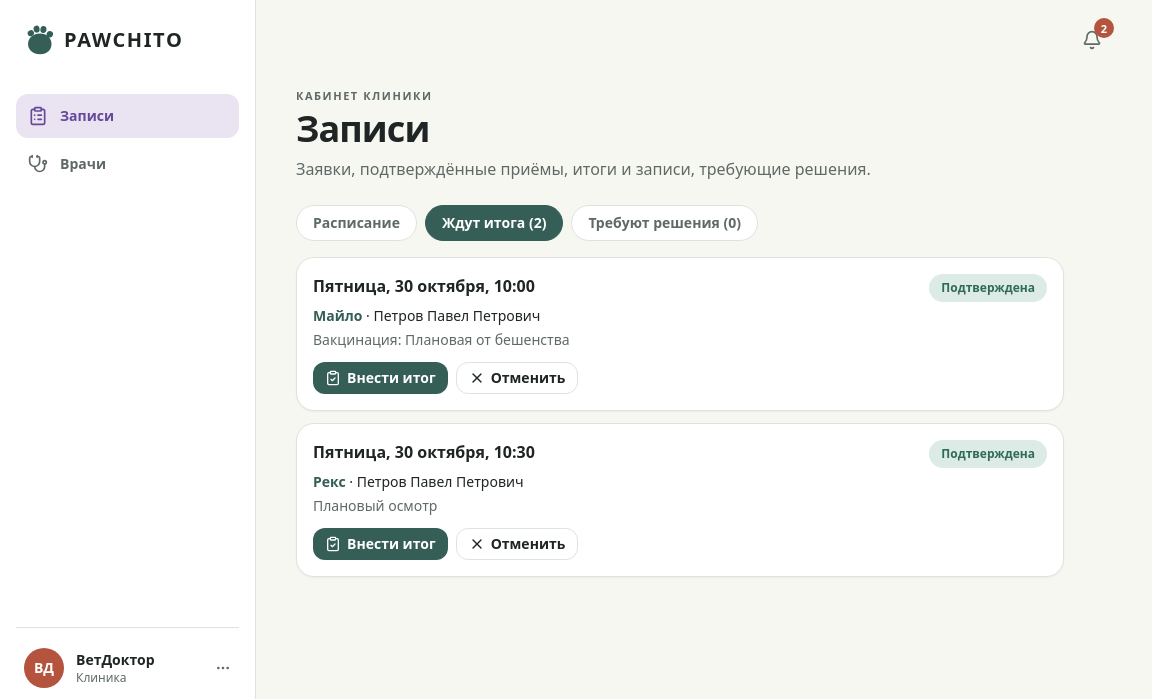
Test case: форма итога приёма › рецепт: ошибки строки — у её полей, первая неверная получает фокус
The width and height of the screenshot is (1152, 699).
Click the button named "Внести итог, Майло, пятница, 30 октября, 10:00" at (380, 378), box x1=313 y1=362 x2=448 y2=394
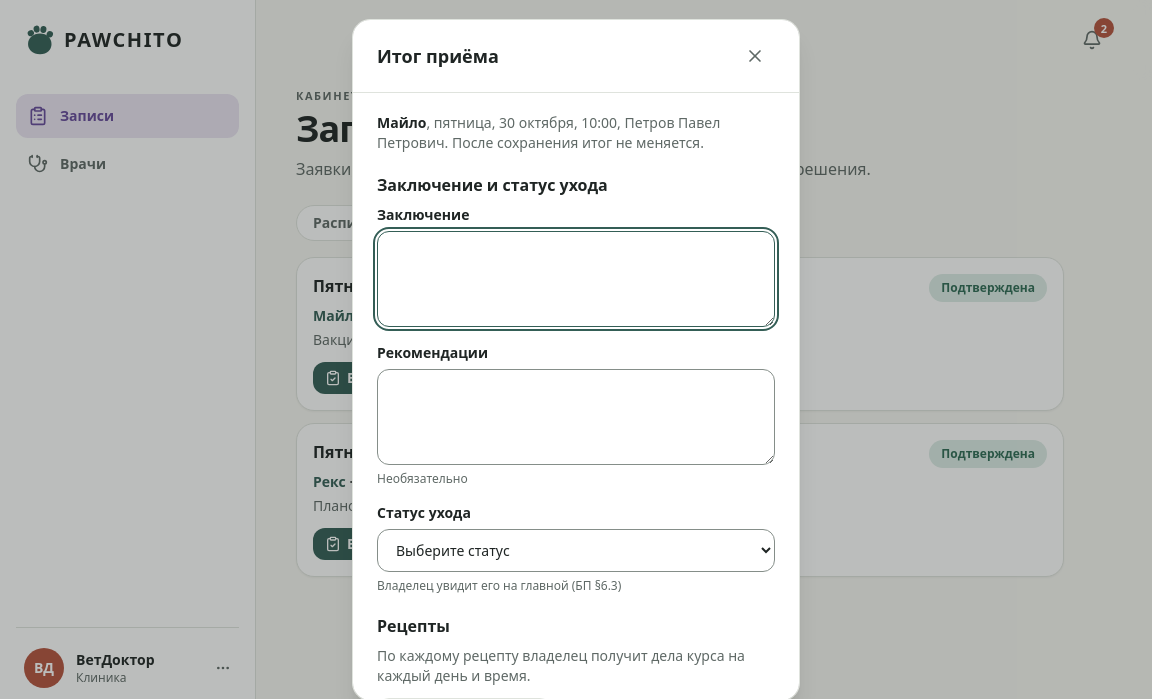
Type "Отит" into the text box labelled "Заключение" at (576, 279), box x1=377 y1=231 x2=775 y2=327
Select "На лечении" in the dropdown labelled "Статус ухода" at (576, 550), box x1=377 y1=529 x2=775 y2=572
(page scrolled)
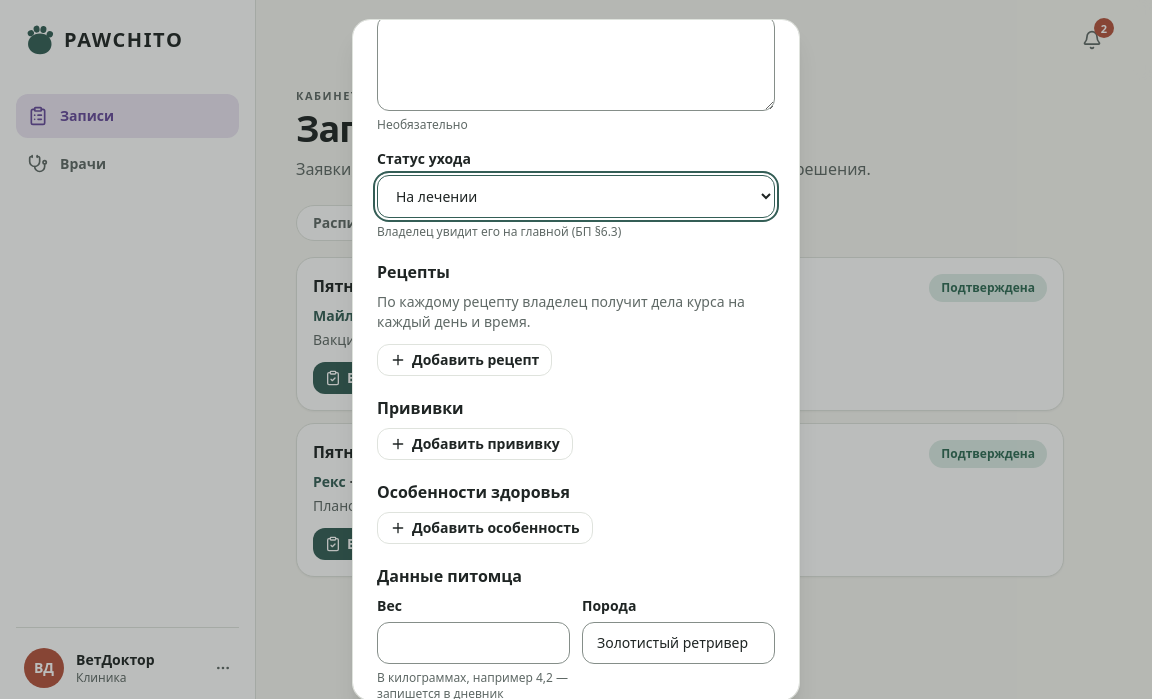
Click the button "Добавить рецепт" at (465, 360), box x1=377 y1=344 x2=552 y2=376
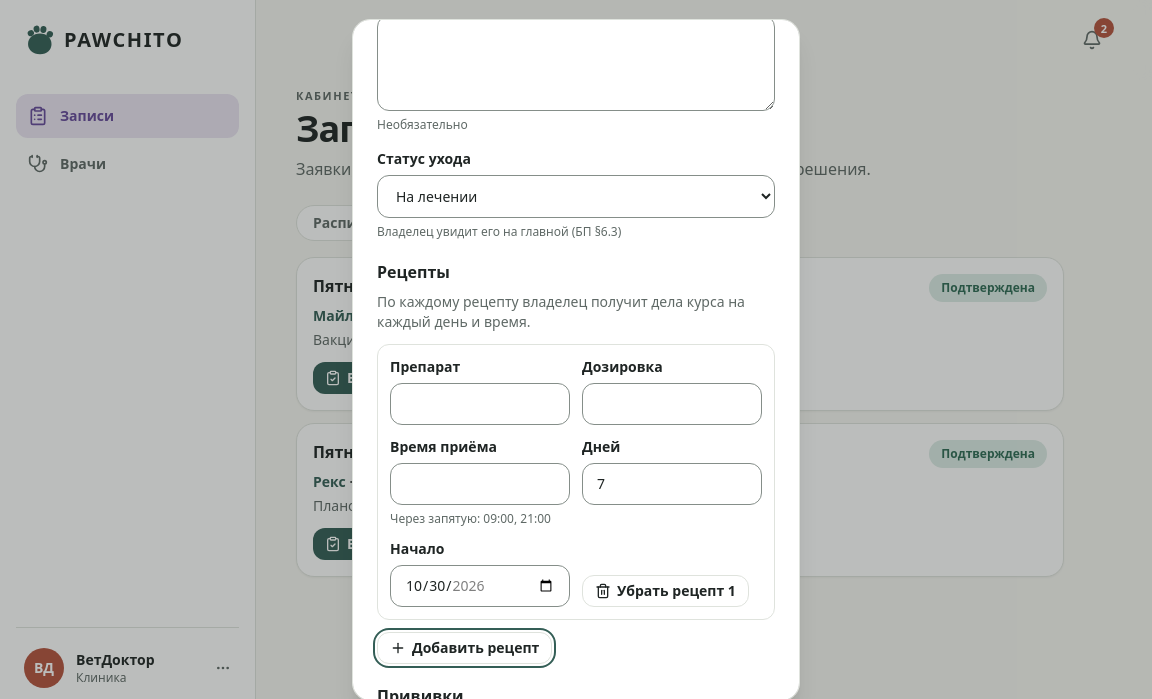
Type "Амоксициллин" into the field labelled "Препарат" at (480, 404), box x1=390 y1=383 x2=570 y2=425
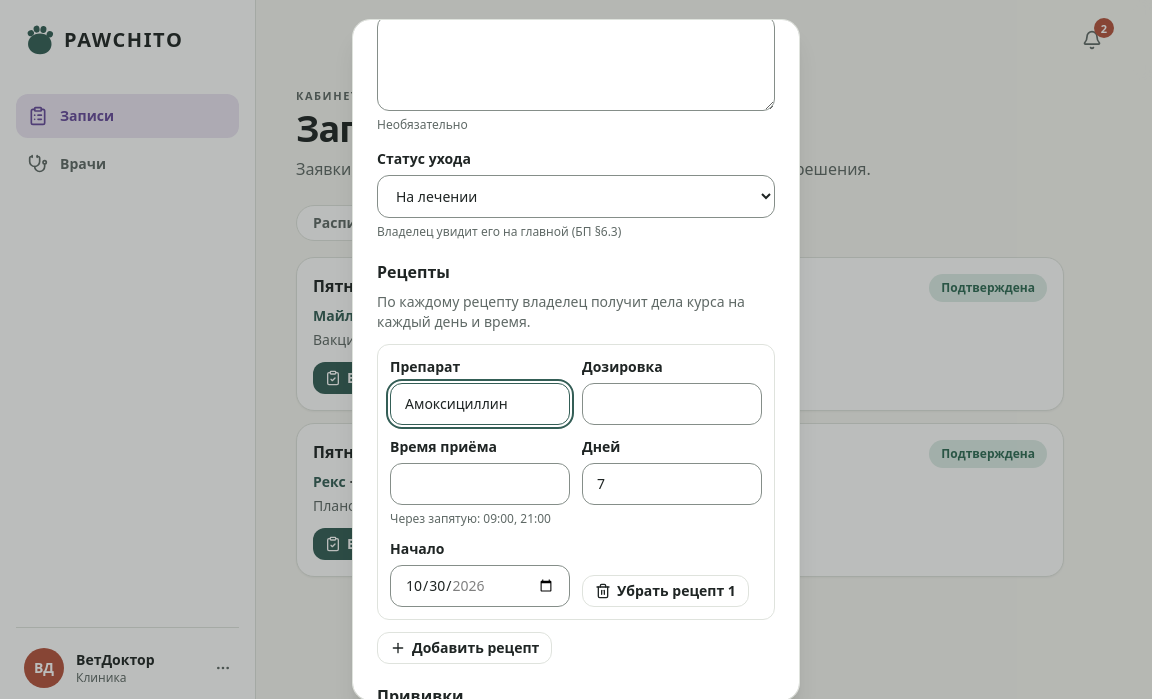
Type "9 утра" into the field labelled "Время приёма" at (480, 484), box x1=390 y1=463 x2=570 y2=505
(page scrolled)
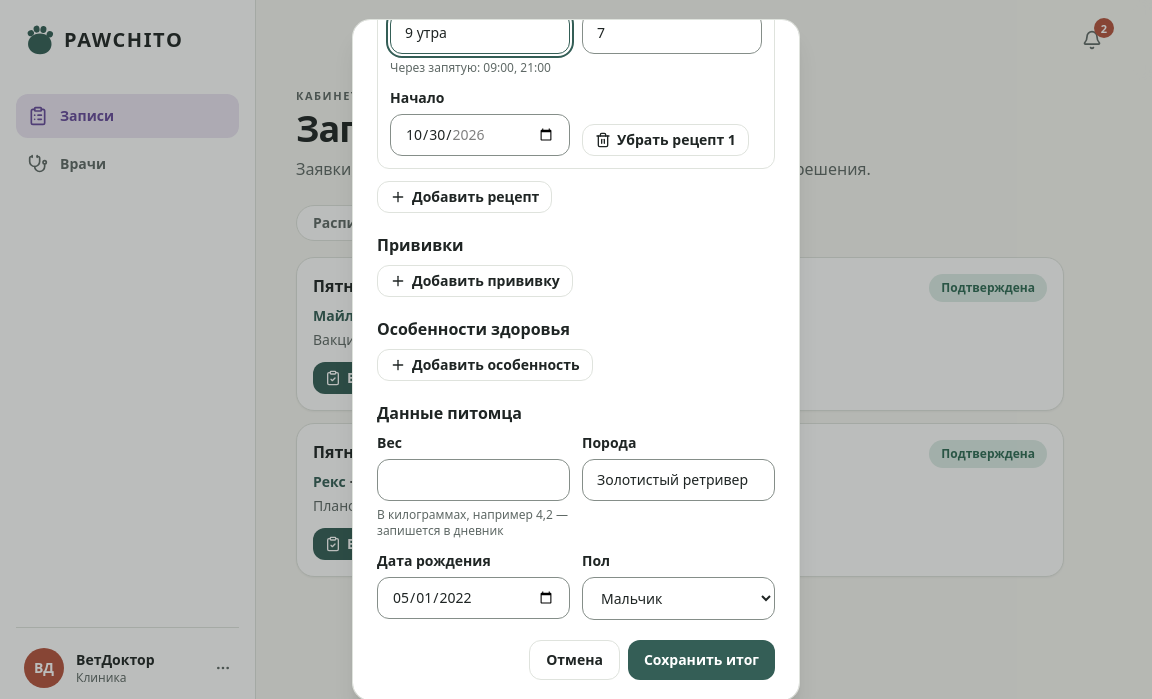
Click the button "Сохранить итог" at (701, 660), box x1=628 y1=640 x2=775 y2=680
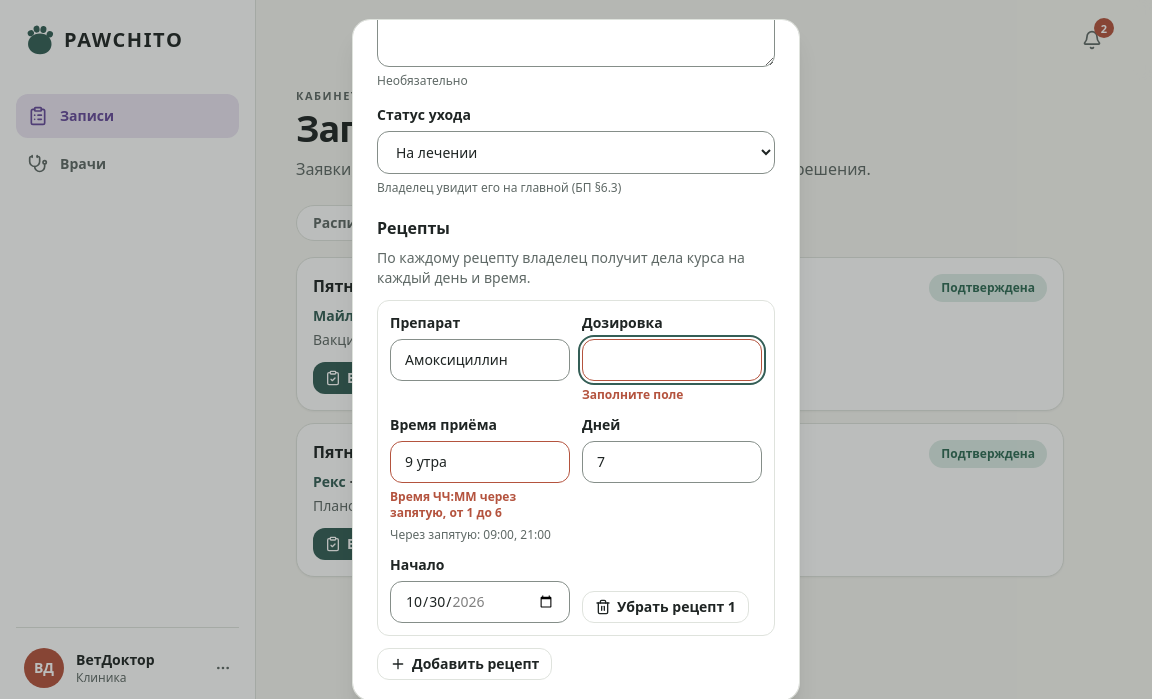
expect the text "Время ЧЧ:ММ через запятую, от 1 до 6" is shown: met, box x1=390 y1=488 x2=516 y2=521
